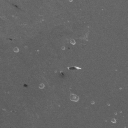corrosion: (68, 92, 80, 104), (67, 65, 82, 71), (69, 38, 77, 47), (37, 81, 45, 89), (12, 46, 20, 53), (109, 118, 117, 125), (90, 99, 96, 105)
